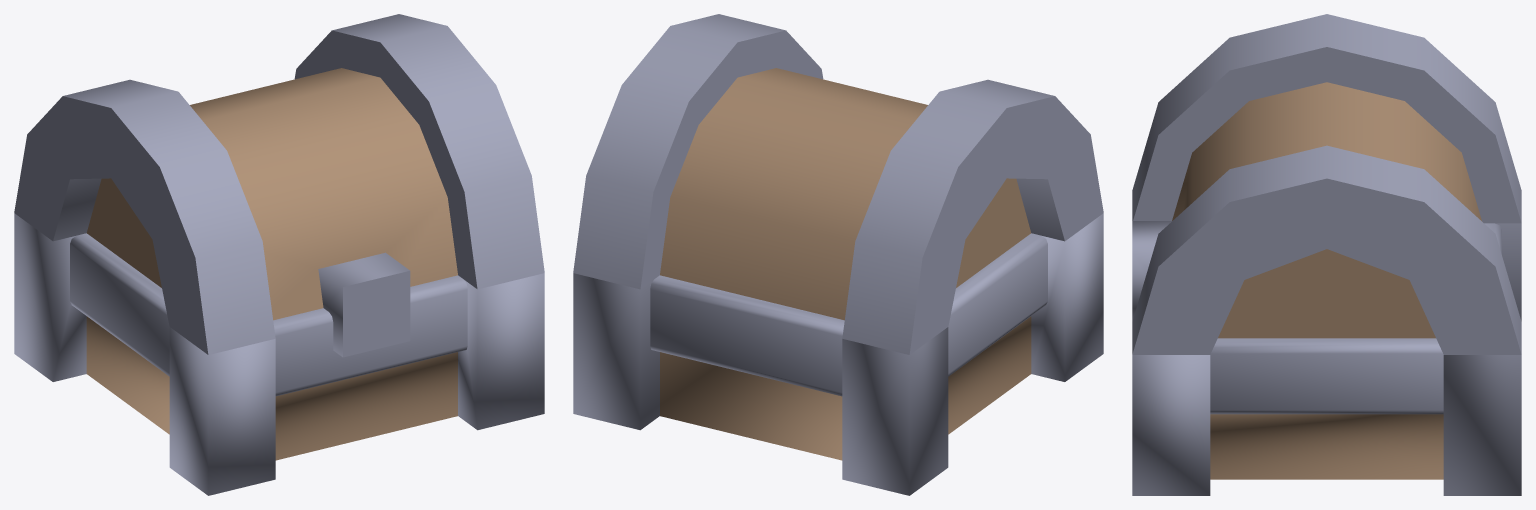
The model's file is kenney_mini-dungeon__chest.fbx.
3 views of the same model, side by side, from view 1: azimuth 30°, elevation 25°; view 2: azimuth 150°, elevation 25°; view 3: azimuth 270°, elevation 25° (orthographic).
Visible parts, largest first — view 1: kenney_mini-dungeon__chest__cave_stone, kenney_mini-dungeon__chest__cave_wood; view 2: kenney_mini-dungeon__chest__cave_stone, kenney_mini-dungeon__chest__cave_wood; view 3: kenney_mini-dungeon__chest__cave_stone, kenney_mini-dungeon__chest__cave_wood.
Boxes of the visible parts, x1=… form: kenney_mini-dungeon__chest__cave_stone: x1=14, y1=14, x2=544, y2=495; kenney_mini-dungeon__chest__cave_wood: x1=86, y1=68, x2=457, y2=460; kenney_mini-dungeon__chest__cave_stone: x1=573, y1=14, x2=1103, y2=495; kenney_mini-dungeon__chest__cave_wood: x1=660, y1=68, x2=1031, y2=460; kenney_mini-dungeon__chest__cave_stone: x1=1132, y1=14, x2=1521, y2=495; kenney_mini-dungeon__chest__cave_wood: x1=1172, y1=82, x2=1481, y2=479.
Size of the model in its own units: 1.79 by 1.61 by 1.79.
